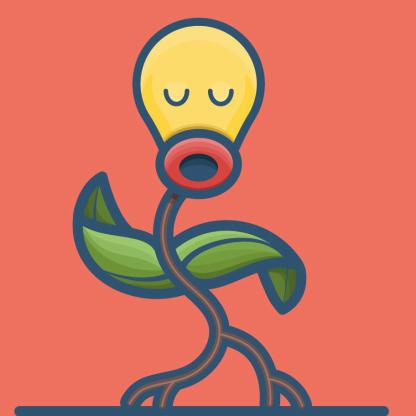Bellsprout: (66, 17, 324, 406)
